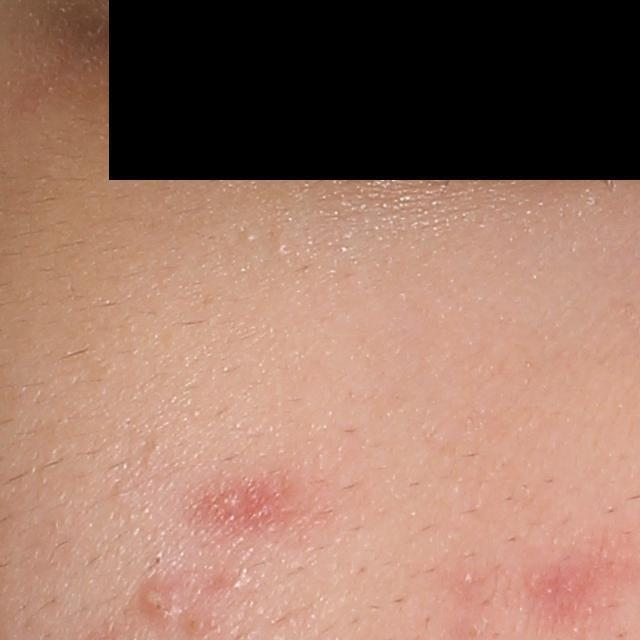pustule: (135, 577, 185, 625)
